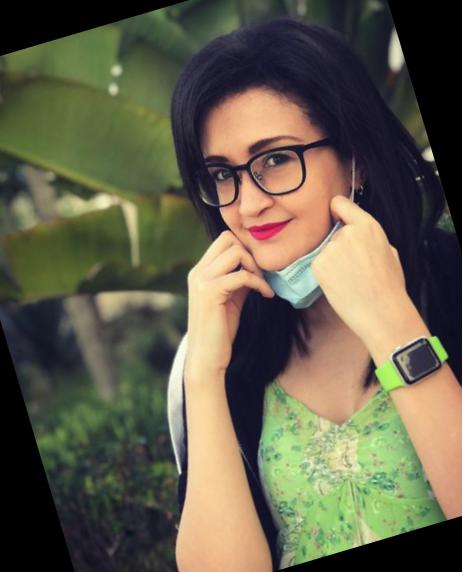mask_weared_incorrect: (203, 115, 365, 319)
